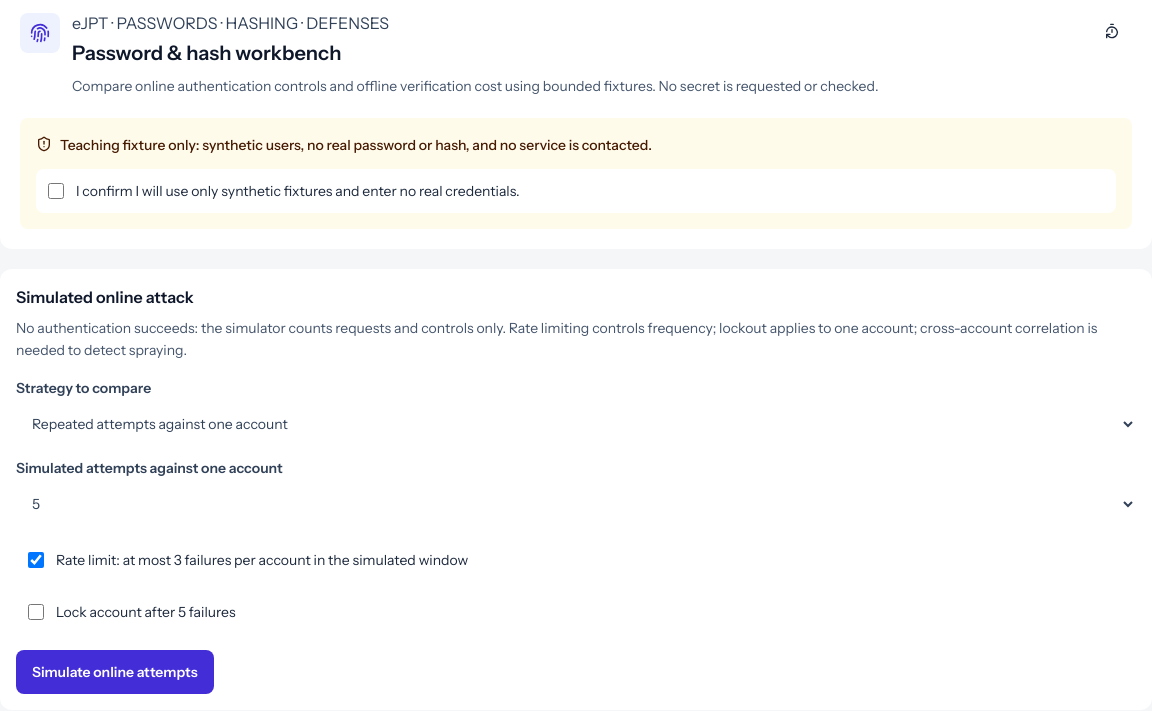
Test: PasswordHashLab › compares synthetic offline KDF fixtures in English without a credential input
Check: the heading "Password & hash workbench" is shown, box [72, 41, 341, 65]
Check: the text "eJPT · PASSWORDS · HASHING · DEFENSES" is shown, box [72, 13, 389, 33]
Click the checkbox labelled "I confirm I will use only synthetic fixtures". click: click(56, 190)
box: [48, 182, 64, 198]
(page scrolled)
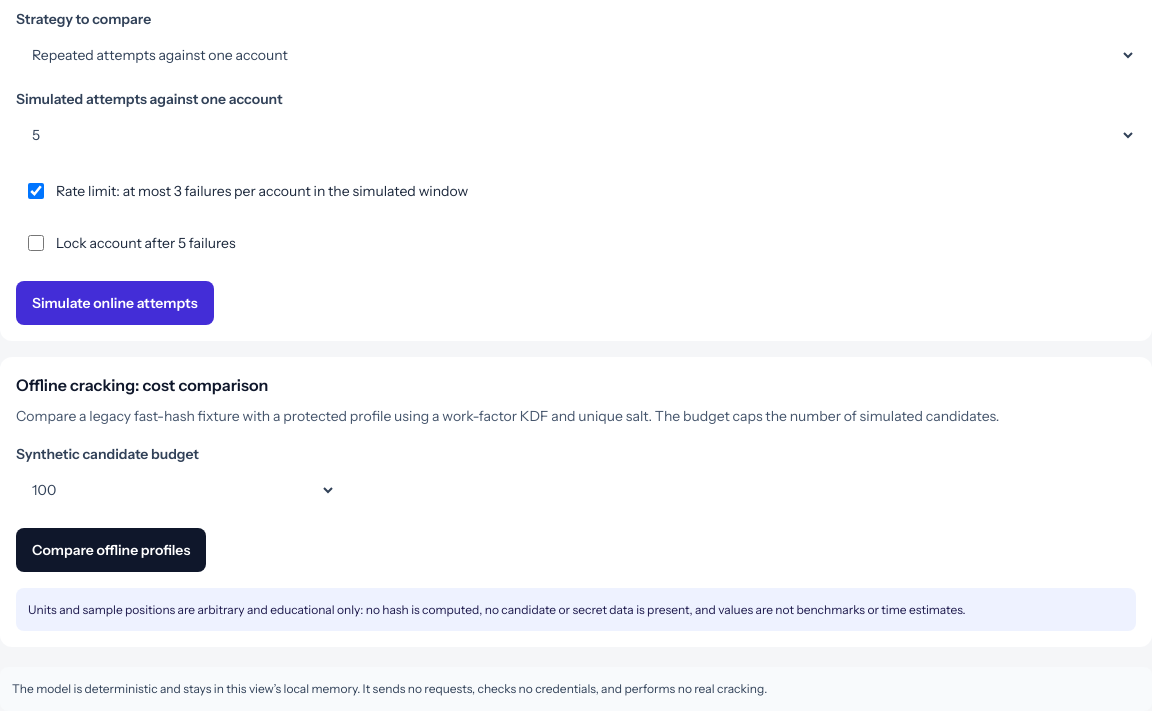
Select "100" in the dropdown labelled "Synthetic candidate budget". click: (176, 490)
box: [16, 468, 336, 512]
Click the button "Compare offline profiles". click: click(111, 550)
box: [16, 528, 206, 572]
(page scrolled)
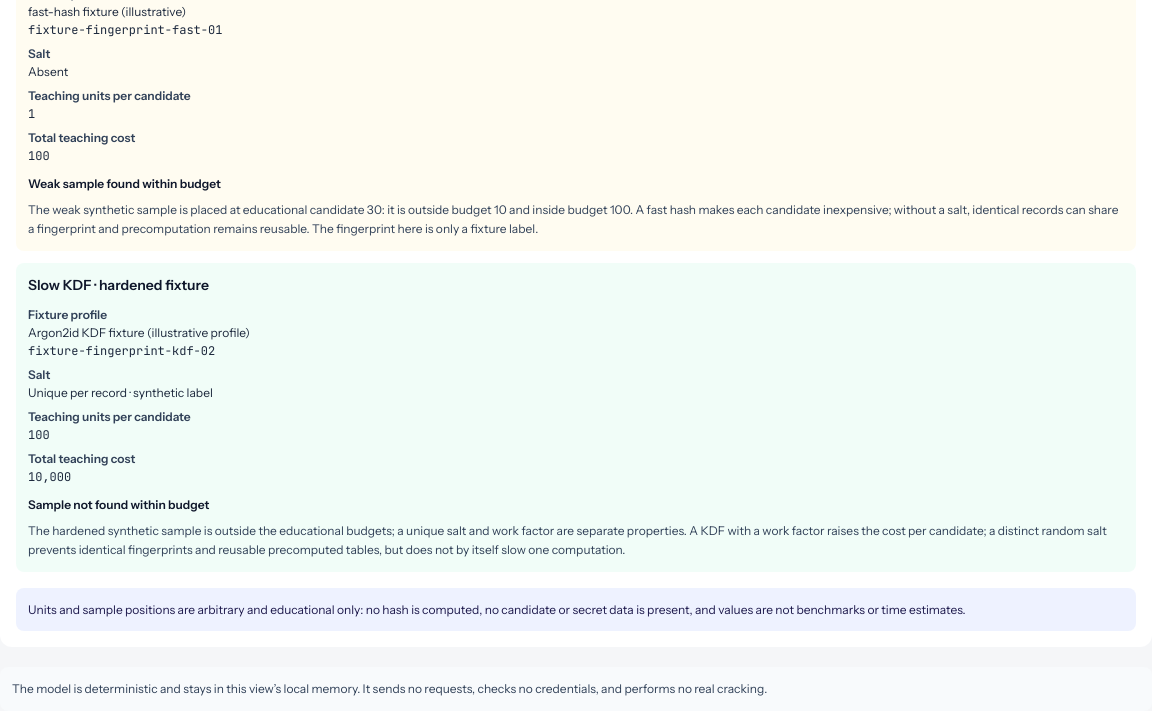
Check: the text "Weak sample found within budget" is shown, box [28, 176, 221, 191]
Check: the text "Sample not found within budget" is shown, box [28, 497, 209, 512]
Check: the text "Argon2id KDF fixture (illustrative profile)" is shown, box [28, 325, 250, 340]
